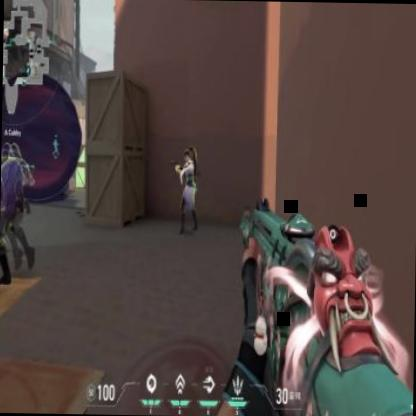enemy: (0, 132, 37, 274), (176, 143, 200, 233)
enemy_head: (5, 142, 18, 158), (184, 148, 189, 162)
